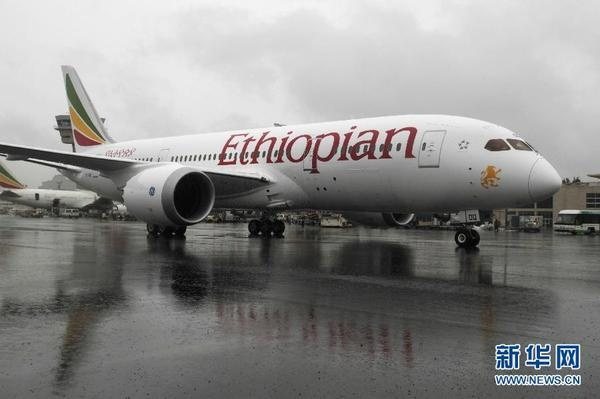airplane: (2, 63, 564, 241)
